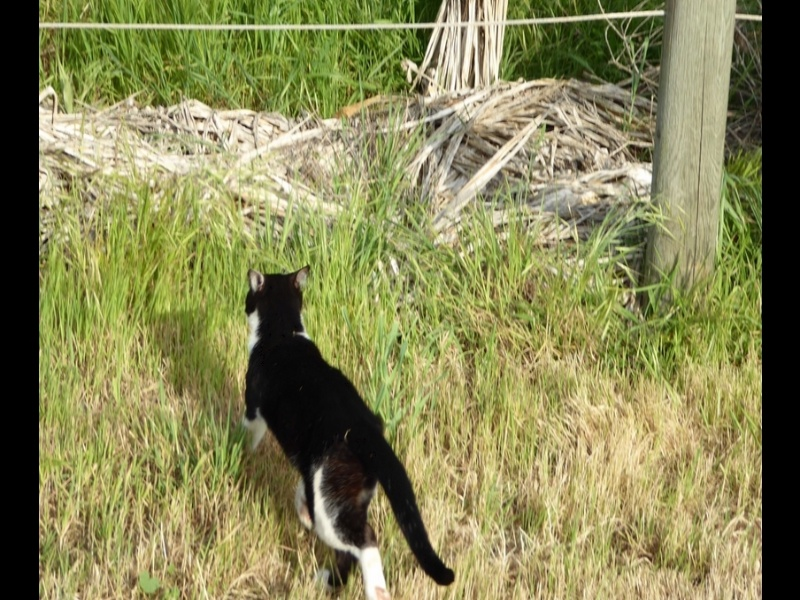cat: (233, 260, 458, 599)
